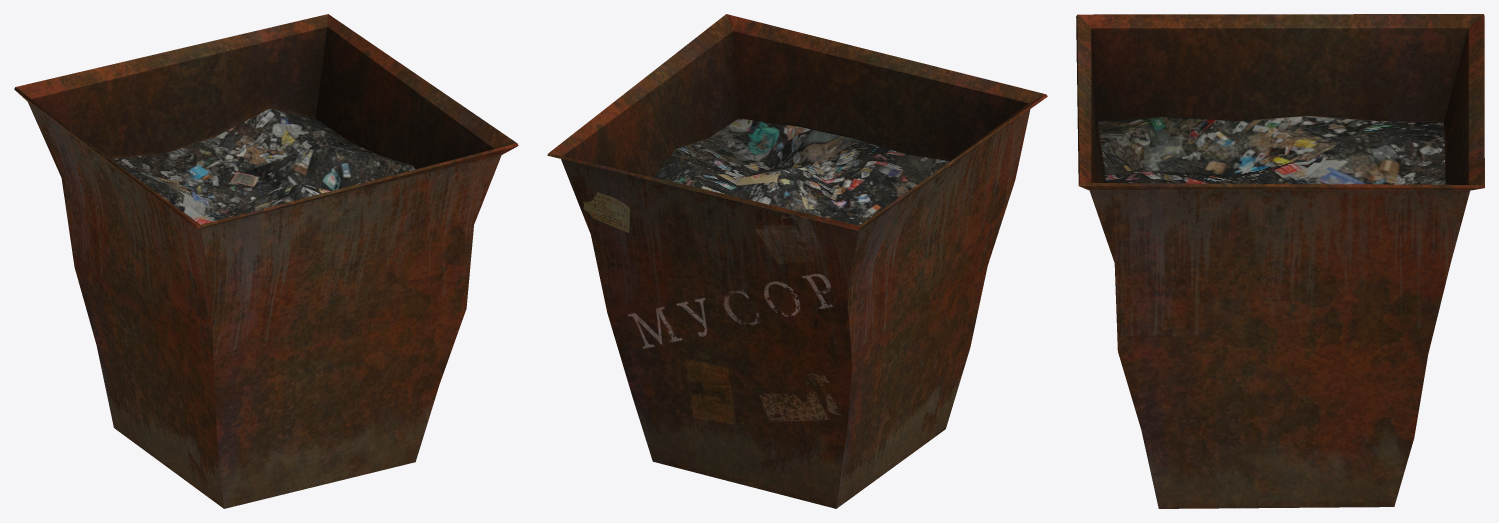
The model's file is trash.glb.
3 views of the same model, side by side, from view 1: azimuth 30°, elevation 25°; view 2: azimuth 150°, elevation 25°; view 3: azimuth 270°, elevation 25° (orthographic). The views are drawn at different scales.
Parts seen in each view (by area): view 1: Object_2; view 2: Object_2; view 3: Object_2.
Part boxes in pixels (x1,y1,x2,y2): Object_2: (14,14,518,508); Object_2: (547,14,1047,508); Object_2: (1076,14,1484,508).
Bounding box in the file's own units: 122 × 119 × 122.
1 material, 1 textured.
